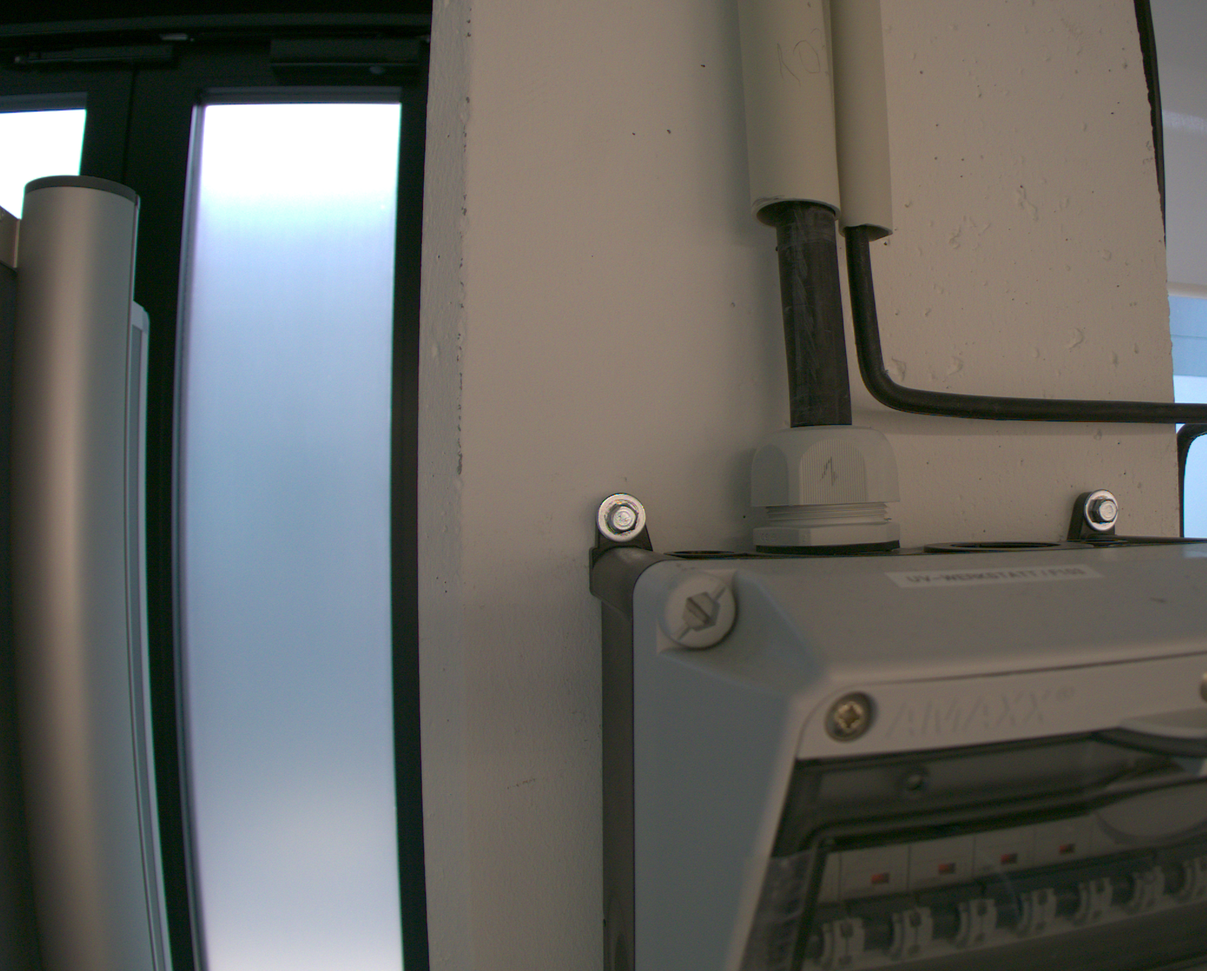screw: (659, 570, 734, 649), (826, 693, 872, 742), (605, 502, 639, 534), (1092, 498, 1118, 524)
